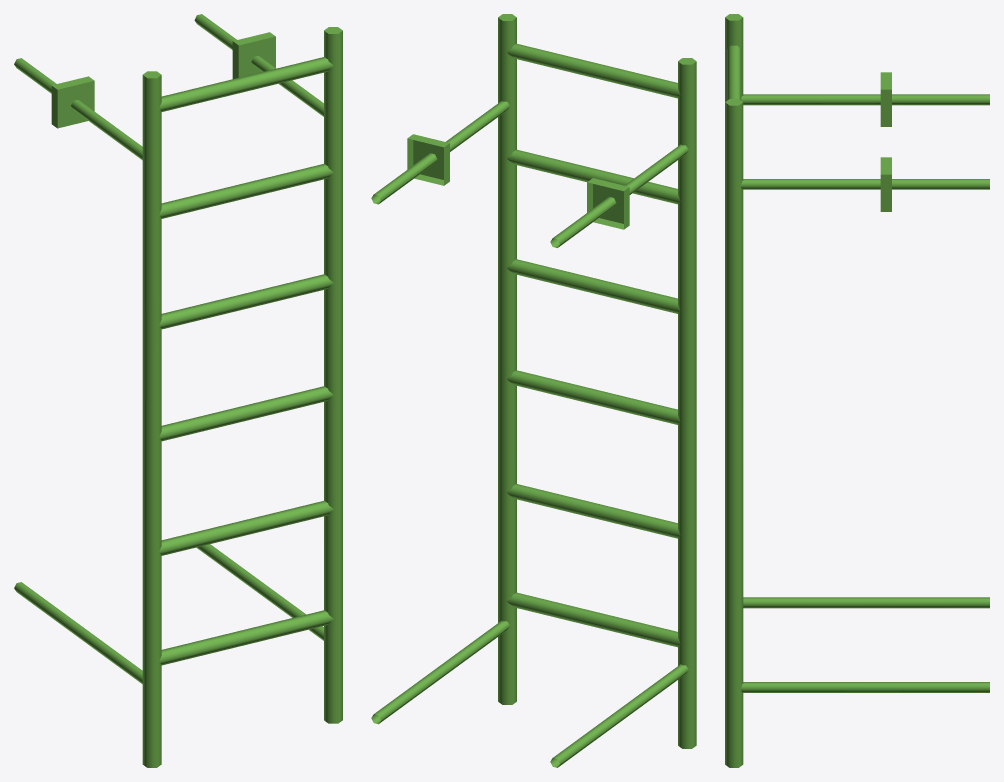
File: met ladder tile.FBX
3 views of the same model, side by side, from view 1: azimuth 30°, elevation 25°; view 2: azimuth 150°, elevation 25°; view 3: azimuth 270°, elevation 25° (orthographic). The views are drawn at different scales.
Visible parts, largest first — view 1: Cylinder099, Group047; view 2: Cylinder099, Group047; view 3: Cylinder099, Group047.
Boxes of the visible parts, left/top/right/bottom form: Cylinder099: left=14, top=14, right=342, bottom=767; Group047: left=51, top=32, right=275, bottom=128; Cylinder099: left=371, top=14, right=696, bottom=767; Group047: left=407, top=134, right=629, bottom=229; Cylinder099: left=725, top=14, right=989, bottom=767; Group047: left=880, top=72, right=891, bottom=211.
Size of the model in its own units: 0.6626 by 2 by 0.725.
